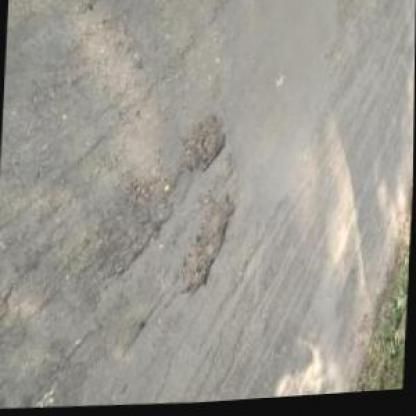pothole: (92, 172, 173, 284), (179, 193, 237, 302), (178, 115, 228, 180)
